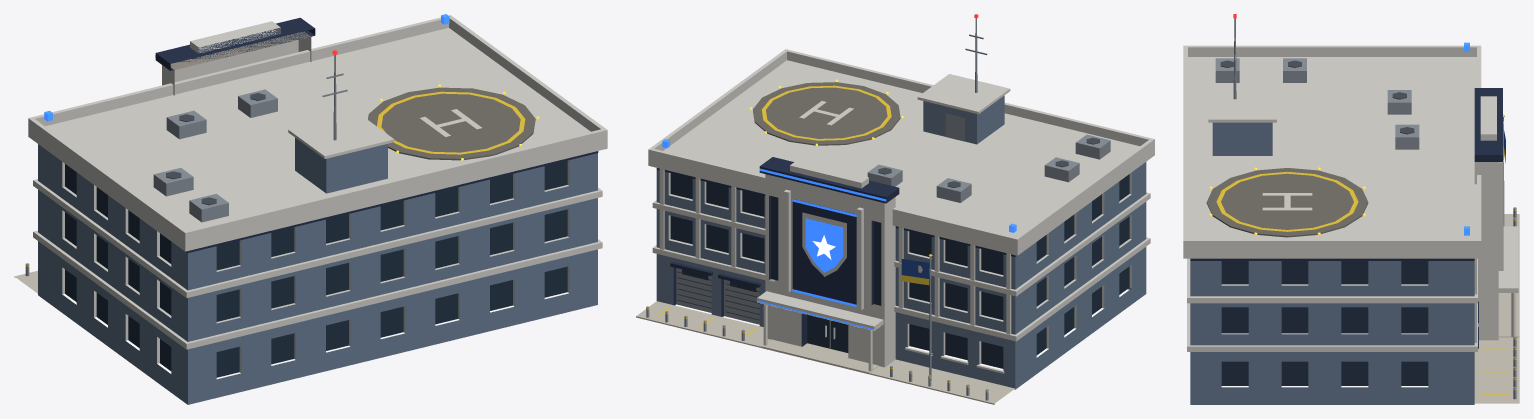
The model's file is police_station.glb.
3 renders of one model, left to right at view 1: azimuth 30°, elevation 25°; view 2: azimuth 150°, elevation 25°; view 3: azimuth 270°, elevation 25°, orthographic. The views are drawn at different scales.
Visible parts, largest first — view 1: Body; view 2: Body; view 3: Body.
Part boxes in pixels (left/top/right/bottom): Body: left=14, top=14, right=607, bottom=404; Body: left=636, top=14, right=1154, bottom=404; Body: left=1183, top=14, right=1519, bottom=404.
Size of what is drawn, in the model's own units: 30.9 by 20.61 by 22.45.
